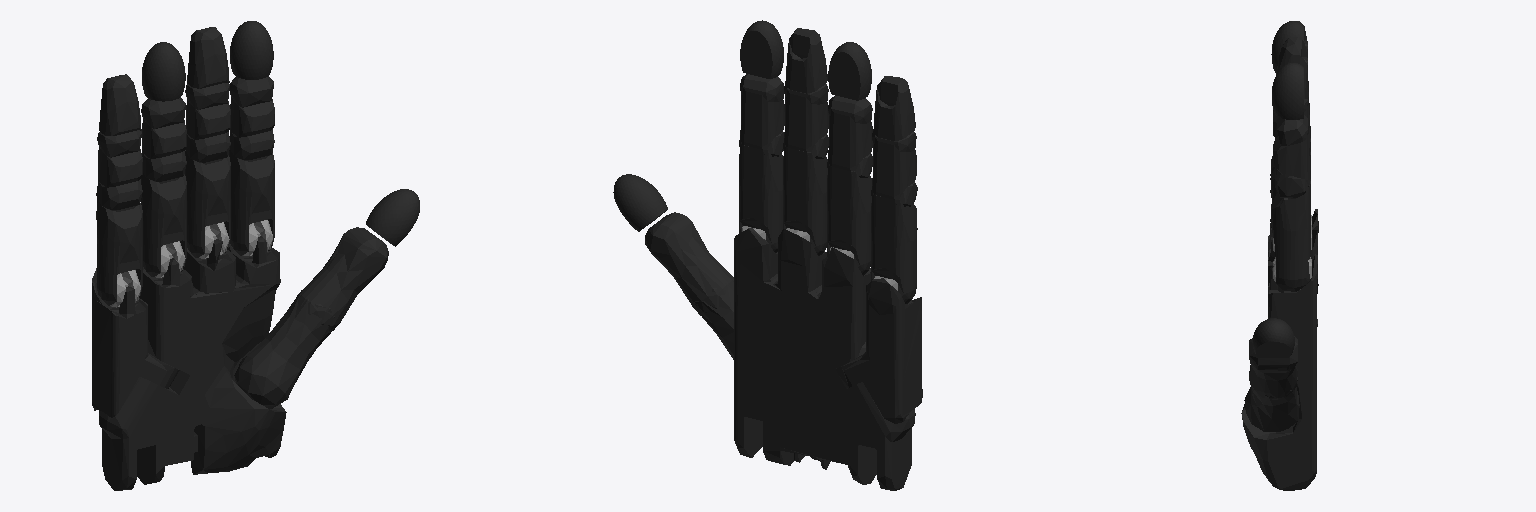
--- What the picture shows (computed from the rendered views, not written in the file) ---
Views: 3 orthographic renders of the robot side by side, from view 1: azimuth 30°, elevation 25°; view 2: azimuth 150°, elevation 25°; view 3: azimuth 270°, elevation 25°.
Robot: shadowhand — 29 links, 28 joints (22 revolute, 6 fixed); root link base_link; default pose: all joints at 0.
Visible links, largest first — view 1: palm, lfmetacarpal, thproximal, thmiddle, lfproximal, rfproximal, mfproximal, ffproximal, rfmiddle, ffmiddle, lfmiddle, mfmiddle (+9 smaller); view 2: palm, lfmetacarpal, thmiddle, lfproximal, rfproximal, mfproximal, ffproximal, rfmiddle, ffmiddle, lfmiddle, mfmiddle, lfdistal (+5 smaller); view 3: palm, ffproximal, ffmiddle, thmiddle, thproximal, ffdistal, thdistal, mfdistal, rfdistal.
Link boxes in pixels (x1,y1,x2,y2): palm: (99,236,286,490); lfmetacarpal: (92,268,179,417); thproximal: (234,290,335,408); thmiddle: (296,227,388,330); lfproximal: (96,198,142,305); rfproximal: (141,173,186,276); mfproximal: (185,150,230,257); ffproximal: (229,150,274,255); rfmiddle: (141,97,186,181); ffmiddle: (229,76,274,160); lfmiddle: (96,130,142,210); mfmiddle: (185,83,230,162); palm: (734,227,915,490); lfmetacarpal: (836,278,922,423); thmiddle: (645,212,733,315); lfproximal: (871,195,917,303); rfproximal: (827,166,871,275); mfproximal: (783,147,827,255); ffproximal: (739,145,782,252); rfmiddle: (827,95,872,177); ffmiddle: (739,74,784,156); lfmiddle: (871,132,917,206); mfmiddle: (783,81,828,158); lfdistal: (873,76,915,140); palm: (1241,212,1318,490); ffproximal: (1270,181,1310,291); ffmiddle: (1273,115,1310,198); thmiddle: (1249,336,1297,399); thproximal: (1244,365,1299,431); ffdistal: (1272,63,1303,119); thdistal: (1253,318,1294,357); mfdistal: (1276,37,1307,98); rfdistal: (1271,21,1303,72).
Bounding box of the posed robot: 0.1543 × 0.0345 × 0.2098 m (x, y, z).
23 mesh visuals loaded from 10 distinct referenced files (10 binary STL).

robot.urdf — shadowhand:
<robot name="shadowhand">
  <material name="Blue">
    <color rgba="0.0 0.0 0.8 1.0" />
  </material>
  <material name="Green">
    <color rgba="0.0 0.8 0.0 1.0" />
  </material>
  <material name="Grey">
    <color rgba="0.2 0.2 0.2 1.0" />
  </material>
  <material name="LightGrey">
    <color rgba="0.6 0.6 0.6 1.0" />
  </material>
  <material name="Red">
    <color rgba="0.8 0.0 0.0 1.0" />
  </material>
  <material name="White">
    <color rgba="1.0 1.0 1.0 1.0" />
  </material>
  <link name="base_link"/>
  <joint name="base_link_palm" type="fixed">
    <origin rpy="0.00000000 0.00000000 0.00000000"/>
    <parent link="base_link"/>
    <child link="palm"/>
  </joint>
  <link name="palm">
    <inertial>
      <origin rpy="0 0 0" xyz="0 0 0.035" />
      <mass value="0.3" />
      <inertia ixx="0.5" ixy="0.0" ixz="0.0" iyy="0.5" iyz="0.0" izz="0.3" />
    </inertial>
    <visual>
      <origin rpy="0 0 0" xyz="0 0 0" />
      <geometry name="palm_visual">
        <mesh filename="meshes/palm.stl" scale="0.001 0.001 0.001" />
      </geometry>
      <material name="Grey" />
    </visual>
    <collision>
      <origin rpy="0 0 0" xyz="0 0 0" />
      <geometry name="palm_visual">
        <mesh filename="meshes/palm.stl" scale="0.001 0.001 0.001" />
      </geometry>
    </collision>
  </link>
  <link name="ffknuckle">
    <inertial>
      <origin rpy="0 0 0" xyz="0 0 0" />

      <mass value="0.008" />
      <inertia ixx="0.0" ixy="0.0" ixz="0.0" iyy="0.1" iyz="0.0" izz="0.0" />
    </inertial>
    <visual>
      <origin rpy="0 0 0" xyz="0 0 0.0005" />
      <geometry name="knuckle_visual">
        <mesh filename="meshes/knuckle.stl" scale="0.001 0.001 0.001" />
      </geometry>
      <material name="LightGrey" />
    </visual>
    <collision>
      <origin rpy="0 0 0" xyz="0 0 0.0005" />
      <geometry name="knuckle_visual">
        <mesh filename="meshes/knuckle.stl" scale="0.001 0.001 0.001" />
      </geometry>
    </collision>
  </link>
  <joint name="FFJ4" type="revolute">
    <parent link="palm" />
    <child link="ffknuckle" />

    <origin rpy="0 0 0" xyz="0.033 0 0.095" />
    <axis xyz="0 -1 0" />
    <limit effort="100" lower="-0.43633231299858238" upper="0.43633231299858238" velocity="1.0" />
    <dynamics damping="50.5" />
  </joint>
  <link name="ffproximal">
    <inertial>
      <mass value="0.014" />
      <origin xyz="0 0 0.0225" />
      <inertia ixx="0.1" ixy="0.0" ixz="0.0" iyy="0.1" iyz="0.0" izz="0.0" />
    </inertial>
    <visual>
      <origin rpy="0 0 0" xyz="0 0 0" />
      <geometry name="proximal_visual">
        <mesh filename="meshes/F3.stl" scale="0.001 0.001 0.001" />
      </geometry>
      <material name="Grey" />
    </visual>
    <collision>
      <origin rpy="0 0 0" xyz="0 0 0" />
      <geometry name="proximal_visual">
        <mesh filename="meshes/F3.stl" scale="0.001 0.001 0.001" />
      </geometry>
    </collision>
  </link>
  <joint name="FFJ3" type="revolute">
    <parent link="ffknuckle" />
    <child link="ffproximal" />
    <origin rpy="0 0 0" xyz="0 0 0" />
    <axis xyz="1 0 0" />
    <limit effort="100" lower="0" upper="1.57079632679" velocity="1.0" />
    <dynamics damping="50.5" />
  </joint>
  <link name="ffmiddle">
    <inertial>
      <origin rpy="0 0 0" xyz="0 0 0.0125" />
      <mass value="0.012" />
      <inertia ixx="0.1" ixy="0.0" ixz="0.0" iyy="0.1" iyz="0.0" izz="0.0" />
    </inertial>
    <visual>
      <origin rpy="0 0 0" xyz="0 0 0" />
      <geometry name="middle_visual">
        <mesh filename="meshes/F2.stl" scale="0.001 0.001 0.001" />
      </geometry>
      <material name="Grey" />
    </visual>
    <collision>
      <origin rpy="0 0 0" xyz="0 0 0" />
      <geometry name="middle_visual">
        <mesh filename="meshes/F2.stl" scale="0.001 0.001 0.001" />
      </geometry>
    </collision>
  </link>
  <joint name="FFJ2" type="revolute">
    <parent link="ffproximal" />
    <child link="ffmiddle" />
    <origin rpy="0 0 0" xyz="0 0 0.045" />
    <axis xyz="1 0 0" />
    <limit effort="100" lower="0" upper="1.57079632679" velocity="1.0" />
    <dynamics damping="50.5" />
  </joint>
  <link name="ffdistal">
    <inertial>
      <mass value="0.010" />
      <origin xyz="0 0 0.013" />
      <inertia ixx="0.1" ixy="0.0" ixz="0.0" iyy="0.1" iyz="0.0" izz="0.0" />
    </inertial>
    <visual>
      <origin rpy="0 0 0" xyz="0 0 0" />
      <geometry name="distal_visual">
        <mesh filename="meshes/distal_ellipsoid.stl" scale="0.001 0.001 0.001" />
      </geometry>
      <material name="Grey" />
    </visual>

    <collision>
      <origin rpy="0 0 0" xyz="0 0 0" />
      <geometry name="distal_collision_geom">
        <mesh filename="meshes/distal_ellipsoid.stl" scale="0.001 0.001 0.001" />
      </geometry>
    </collision>
  </link>
  <joint name="FFJ1" type="revolute">
    <parent link="ffmiddle" />
    <child link="ffdistal" />
    <origin rpy="0 0 0" xyz="0 0 0.025" />
    <axis xyz="1 0 0" />
    <limit effort="100" lower="0" upper="1.57079632679" velocity="1.0" />
    <dynamics damping="50.5" />
  </joint>
  <link name="fftip">
    <inertial>
      <mass value="0.001" />
      <inertia ixx="0.0" ixy="0.0" ixz="0.0" iyy="0.0" iyz="0.0" izz="0.0" />
    </inertial>
  </link>
  <joint name="FFtip" type="fixed">
    <parent link="ffdistal" />
    <child link="fftip" />
    <origin rpy="0 0 0" xyz="0 0 0.026" />
  </joint>
  <link name="mfknuckle">
    <inertial>
      <origin rpy="0 0 0" xyz="0 0 0" />

      <mass value="0.008" />
      <inertia ixx="0.0" ixy="0.0" ixz="0.0" iyy="0.1" iyz="0.0" izz="0.0" />
    </inertial>
    <visual>
      <origin rpy="0 0 0" xyz="0 0 0.0005" />
      <geometry name="knuckle_visual">
        <mesh filename="meshes/knuckle.stl" scale="0.001 0.001 0.001" />
      </geometry>
      <material name="LightGrey" />
    </visual>
    <collision>
      <origin rpy="0 0 0" xyz="0 0 0.0005" />
      <geometry name="knuckle_visual">
        <mesh filename="meshes/knuckle.stl" scale="0.001 0.001 0.001" />
      </geometry>
    </collision>
  </link>
  <joint name="MFJ4" type="revolute">
    <parent link="palm" />
    <child link="mfknuckle" />

    <origin rpy="0 0 0" xyz="0.011 0 0.099" />
    <axis xyz="0 -1 0" />
    <limit effort="100" lower="-0.43633231299858238" upper="0.43633231299858238" velocity="1.0" />
    <dynamics damping="50.5" />
  </joint>
  <link name="mfproximal">
    <inertial>
      <mass value="0.014" />
      <origin xyz="0 0 0.0225" />
      <inertia ixx="0.1" ixy="0.0" ixz="0.0" iyy="0.1" iyz="0.0" izz="0.0" />
    </inertial>
    <visual>
      <origin rpy="0 0 0" xyz="0 0 0" />
      <geometry name="proximal_visual">
        <mesh filename="meshes/F3.stl" scale="0.001 0.001 0.001" />
      </geometry>
      <material name="Grey" />
    </visual>
    <collision>
      <origin rpy="0 0 0" xyz="0 0 0" />
      <geometry name="proximal_visual">
        <mesh filename="meshes/F3.stl" scale="0.001 0.001 0.001" />
      </geometry>
    </collision>
  </link>
  <joint name="MFJ3" type="revolute">
    <parent link="mfknuckle" />
    <child link="mfproximal" />
    <origin rpy="0 0 0" xyz="0 0 0" />
    <axis xyz="1 0 0" />
    <limit effort="100" lower="0" upper="1.57079632679" velocity="1.0" />
    <dynamics damping="50.5" />
  </joint>
  <link name="mfmiddle">
    <inertial>
      <origin rpy="0 0 0" xyz="0 0 0.0125" />
      <mass value="0.012" />
      <inertia ixx="0.1" ixy="0.0" ixz="0.0" iyy="0.1" iyz="0.0" izz="0.0" />
    </inertial>
    <visual>
      <origin rpy="0 0 0" xyz="0 0 0" />
      <geometry name="middle_visual">
        <mesh filename="meshes/F2.stl" scale="0.001 0.001 0.001" />
      </geometry>
      <material name="Grey" />
    </visual>
    <collision>
      <origin rpy="0 0 0" xyz="0 0 0" />
      <geometry name="middle_visual">
        <mesh filename="meshes/F2.stl" scale="0.001 0.001 0.001" />
      </geometry>
    </collision>
  </link>
  <joint name="MFJ2" type="revolute">
    <parent link="mfproximal" />
    <child link="mfmiddle" />
    <origin rpy="0 0 0" xyz="0 0 0.045" />
    <axis xyz="1 0 0" />
    <limit effort="100" lower="0" upper="1.57079632679" velocity="1.0" />
    <dynamics damping="50.5" />
  </joint>
  <link name="mfdistal">
    <inertial>
      <mass value="0.010" />
      <origin xyz="0 0 0.013" />
      <inertia ixx="0.1" ixy="0.0" ixz="0.0" iyy="0.1" iyz="0.0" izz="0.0" />
    </inertial>
    <visual>
      <origin rpy="0 0 0" xyz="0 0 0" />
      <geometry name="distal_visual">
        <mesh filename="meshes/F1.stl" scale="0.001 0.001 0.001" />
      </geometry>
      <material name="Grey" />
    </visual>

    <collision>
      <origin rpy="0 0 0" xyz="0 0 0" />
      <geometry name="distal_collision_geom">
        <mesh filename="meshes/F1.stl" scale="0.001 0.001 0.001" />
      </geometry>
    </collision>
  </link>
  <joint name="MFJ1" type="revolute">
    <parent link="mfmiddle" />
    <child link="mfdistal" />
    <origin rpy="0 0 0" xyz="0 0 0.025" />
    <axis xyz="1 0 0" />
    <limit effort="100" lower="0" upper="1.57079632679" velocity="1.0" />
    <dynamics damping="50.5" />
  </joint>
  <link name="mftip">
    <inertial>
      <mass value="0.001" />
      <inertia ixx="0.0" ixy="0.0" ixz="0.0" iyy="0.0" iyz="0.0" izz="0.0" />
    </inertial>
  </link>
  <joint name="MFtip" type="fixed">
    <parent link="mfdistal" />
    <child link="mftip" />
    <origin rpy="0 0 0" xyz="0 0 0.026" />
  </joint>
  <link name="rfknuckle">
    <inertial>
      <origin rpy="0 0 0" xyz="0 0 0" />

      <mass value="0.008" />
      <inertia ixx="0.0" ixy="0.0" ixz="0.0" iyy="0.1" iyz="0.0" izz="0.0" />
    </inertial>
    <visual>
      <origin rpy="0 0 0" xyz="0 0 0.0005" />
      <geometry name="knuckle_visual">
        <mesh filename="meshes/knuckle.stl" scale="0.001 0.001 0.001" />
      </geometry>
      <material name="LightGrey" />
    </visual>
    <collision>
      <origin rpy="0 0 0" xyz="0 0 0.0005" />
      <geometry name="knuckle_visual">
        <mesh filename="meshes/knuckle.stl" scale="0.001 0.001 0.001" />
      </geometry>
    </collision>
  </link>
  <joint name="RFJ4" type="revolute">
    <parent link="palm" />
    <child link="rfknuckle" />

    <origin rpy="0 0 0" xyz="-0.011 0 0.095" />
    <axis xyz="0 1 0" />
    <limit effort="100" lower="-0.43633231299858238" upper="0.43633231299858238" velocity="1.0" />
    <dynamics damping="50.5" />
  </joint>
  <link name="rfproximal">
    <inertial>
      <mass value="0.014" />
      <origin xyz="0 0 0.0225" />
      <inertia ixx="0.1" ixy="0.0" ixz="0.0" iyy="0.1" iyz="0.0" izz="0.0" />
    </inertial>
    <visual>
      <origin rpy="0 0 0" xyz="0 0 0" />
      <geometry name="proximal_visual">
        <mesh filename="meshes/F3.stl" scale="0.001 0.001 0.001" />
      </geometry>
      <material name="Grey" />
    </visual>
    <collision>
      <origin rpy="0 0 0" xyz="0 0 0" />
      <geometry name="proximal_visual">
        <mesh filename="meshes/F3.stl" scale="0.001 0.001 0.001" />
      </geometry>
    </collision>
  </link>
  <joint name="RFJ3" type="revolute">
    <parent link="rfknuckle" />
    <child link="rfproximal" />
    <origin rpy="0 0 0" xyz="0 0 0" />
    <axis xyz="1 0 0" />
    <limit effort="100" lower="0" upper="1.57079632679" velocity="1.0" />
    <dynamics damping="50.5" />
  </joint>
  <link name="rfmiddle">
    <inertial>
      <origin rpy="0 0 0" xyz="0 0 0.0125" />
      <mass value="0.012" />
      <inertia ixx="0.1" ixy="0.0" ixz="0.0" iyy="0.1" iyz="0.0" izz="0.0" />
    </inertial>
    <visual>
      <origin rpy="0 0 0" xyz="0 0 0" />
      <geometry name="middle_visual">
        <mesh filename="meshes/F2.stl" scale="0.001 0.001 0.001" />
      </geometry>
      <material name="Grey" />
    </visual>
    <collision>
      <origin rpy="0 0 0" xyz="0 0 0" />
      <geometry name="middle_visual">
        <mesh filename="meshes/F2.stl" scale="0.001 0.001 0.001" />
      </geometry>
    </collision>
  </link>
  <joint name="RFJ2" type="revolute">
    <parent link="rfproximal" />
    <child link="rfmiddle" />
    <origin rpy="0 0 0" xyz="0 0 0.045" />
    <axis xyz="1 0 0" />
    <limit effort="100" lower="0" upper="1.57079632679" velocity="1.0" />
    <dynamics damping="50.5" />
  </joint>
  <link name="rfdistal">
    <inertial>
      <mass value="0.010" />
      <origin xyz="0 0 0.013" />
      <inertia ixx="0.1" ixy="0.0" ixz="0.0" iyy="0.1" iyz="0.0" izz="0.0" />
    </inertial>
    <visual>
      <origin rpy="0 0 0" xyz="0 0 0" />
      <geometry name="distal_visual">
        <mesh filename="meshes/distal_ellipsoid.stl" scale="0.001 0.001 0.001" />
      </geometry>
      <material name="Grey" />
    </visual>

    <collision>
      <origin rpy="0 0 0" xyz="0 0 0" />
      <geometry name="distal_collision_geom">
        <mesh filename="meshes/distal_ellipsoid.stl" scale="0.001 0.001 0.001" />
      </geometry>
    </collision>
  </link>
  <joint name="RFJ1" type="revolute">
    <parent link="rfmiddle" />
    <child link="rfdistal" />
    <origin rpy="0 0 0" xyz="0 0 0.025" />
    <axis xyz="1 0 0" />
    <limit effort="100" lower="0" upper="1.57079632679" velocity="1.0" />
    <dynamics damping="50.5" />
  </joint>
  <link name="rftip">
    <inertial>
      <mass value="0.001" />
      <inertia ixx="0.0" ixy="0.0" ixz="0.0" iyy="0.0" iyz="0.0" izz="0.0" />
    </inertial>
  </link>
  <joint name="RFtip" type="fixed">
    <parent link="rfdistal" />
    <child link="rftip" />
    <origin rpy="0 0 0" xyz="0 0 0.026" />
  </joint>
  <link name="lfmetacarpal">
    <inertial>
      <origin rpy="0 0 0" xyz="0 0 0.04" />
      <mass value="0.075" />
      <inertia ixx="0.1" ixy="0.0" ixz="0.0" iyy="0.1" iyz="0.0" izz="0.1" />
    </inertial>
    <visual>
      <origin rpy="0 0 0" xyz="0 0 0" />
      <geometry name="lfmetacarpal_visual">
        <mesh filename="meshes/lfmetacarpal.stl" scale="0.001 0.001 0.001" />
      </geometry>
      <material name="Grey" />
    </visual>
    <collision>
      <origin rpy="0 0 0" xyz="0 0 0" />
      <geometry name="lfmetacarpal_visual">
        <mesh filename="meshes/lfmetacarpal.stl" scale="0.001 0.001 0.001" />
      </geometry>
    </collision>
  </link>
  <joint name="LFJ5" type="revolute">
    <parent link="palm" />
    <child link="lfmetacarpal" />
    <origin rpy="0 0 0" xyz="-0.033 0 0.02071" />
    <axis xyz="0.573576436 0 0.819152044" />
    <limit effort="100" lower="0" upper="0.69813170079773179" velocity="1.0" />
    <dynamics damping="50.5" />
  </joint>
  <link name="lfknuckle">
    <inertial>
      <origin rpy="0 0 0" xyz="0 0 0.06579" />
      <mass value="0.008" />
      <inertia ixx="0.1" ixy="0.0" ixz="0.0" iyy="0.1" iyz="0.0" izz="0.1" />
    </inertial>
    <visual>
      <origin rpy="0 0 0" xyz="0 0 0" />
      <geometry name="knuckle_visual">
        <mesh filename="meshes/knuckle.stl" scale="0.001 0.001 0.001" />
      </geometry>
      <material name="LightGrey" />
    </visual>
    <collision>
      <origin rpy="0 0 0" xyz="0 0 0" />
      <geometry name="knuckle_visual">
        <mesh filename="meshes/knuckle.stl" scale="0.001 0.001 0.001" />
      </geometry>
    </collision>
  </link>
  <joint name="LFJ4" type="revolute">
    <parent link="lfmetacarpal" />
    <child link="lfknuckle" />
    <origin rpy="0 0 0" xyz="0 0 0.06579" />
    <axis xyz="0 1 0" />
    <limit effort="100" lower="-0.43633231299858238" upper="0.43633231299858238" velocity="1.0" />
    <dynamics damping="50.5" />
  </joint>
  <link name="lfproximal">
    <inertial>
      <mass value="0.014" />
      <origin xyz="0 0 0.0225" />
      <inertia ixx="0.1" ixy="0.0" ixz="0.0" iyy="0.1" iyz="0.0" izz="0.0" />
    </inertial>
    <visual>
      <origin rpy="0 0 0" xyz="0 0 0" />
      <geometry name="proximal_visual">
        <mesh filename="meshes/F3.stl" scale="0.001 0.001 0.001" />
      </geometry>
      <material name="Grey" />
    </visual>
    <collision>
      <origin rpy="0 0 0" xyz="0 0 0" />
      <geometry name="proximal_visual">
        <mesh filename="meshes/F3.stl" scale="0.001 0.001 0.001" />
      </geometry>
    </collision>
  </link>
  <joint name="LFJ3" type="revolute">
    <parent link="lfknuckle" />
    <child link="lfproximal" />
    <origin rpy="0 0 0" xyz="0 0 0" />
    <axis xyz="1 0 0" />
    <limit effort="100" lower="0" upper="1.57079632679" velocity="1.0" />
    <dynamics damping="50.5" />
  </joint>
  <link name="lfmiddle">
    <inertial>
      <origin rpy="0 0 0" xyz="0 0 0.0125" />
      <mass value="0.012" />
      <inertia ixx="0.1" ixy="0.0" ixz="0.0" iyy="0.1" iyz="0.0" izz="0.0" />
    </inertial>
    <visual>
      <origin rpy="0 0 0" xyz="0 0 0" />
      <geometry name="middle_visual">
        <mesh filename="meshes/F2.stl" scale="0.001 0.001 0.001" />
      </geometry>
      <material name="Grey" />
    </visual>
    <collision>
      <origin rpy="0 0 0" xyz="0 0 0" />
      <geometry name="middle_visual">
        <mesh filename="meshes/F2.stl" scale="0.001 0.001 0.001" />
      </geometry>
    </collision>
  </link>
  <joint name="LFJ2" type="revolute">
    <parent link="lfproximal" />
    <child link="lfmiddle" />
    <origin rpy="0 0 0" xyz="0 0 0.045" />
    <axis xyz="1 0 0" />
    <limit effort="100" lower="0" upper="1.57079632679" velocity="1.0" />
    <dynamics damping="50.5" />
  </joint>
  <link name="lfdistal">
    <inertial>
      <mass value="0.010" />
      <origin xyz="0 0 0.013" />
      <inertia ixx="0.1" ixy="0.0" ixz="0.0" iyy="0.1" iyz="0.0" izz="0.0" />
    </inertial>
    <visual>
      <origin rpy="0 0 0" xyz="0 0 0" />
      <geometry name="distal_visual">
        <mesh filename="meshes/F1.stl" scale="0.001 0.001 0.001" />
      </geometry>
      <material name="Grey" />
    </visual>

    <collision>
      <origin rpy="0 0 0" xyz="0 0 0" />
      <geometry name="distal_collision_geom">
        <mesh filename="meshes/F1.stl" scale="0.001 0.001 0.001" />
      </geometry>
    </collision>
  </link>
  <joint name="LFJ1" type="revolute">
    <parent link="lfmiddle" />
    <child link="lfdistal" />
    <origin rpy="0 0 0" xyz="0 0 0.025" />
    <axis xyz="1 0 0" />
    <limit effort="100" lower="0" upper="1.57079632679" velocity="1.0" />
    <dynamics damping="50.5" />
  </joint>
  <link name="lftip">
    <inertial>
      <mass value="0.001" />
      <inertia ixx="0.0" ixy="0.0" ixz="0.0" iyy="0.0" iyz="0.0" izz="0.0" />
    </inertial>
  </link>
  <joint name="LFtip" type="fixed">
    <parent link="lfdistal" />
    <child link="lftip" />
    <origin rpy="0 0 0" xyz="0 0 0.026" />
  </joint>
  <link name="thbase">
    <inertial>
      <mass value="0.010" />
      <origin rpy="0 0 0" xyz="0 0 0" />
      <inertia ixx="0.0" ixy="0.0" ixz="0.0" iyy="0.0" iyz="0.0" izz="0.1" />
    </inertial>
    <visual>
      <origin rpy="0 0 0" xyz="0 0 0" />
      <geometry name="thbase_visual">
        <mesh filename="meshes/box.stl" scale="0.001 0.001 0.001" />
      </geometry>
      <material name="shadow_thbase_material">
        <color rgba="0.5 0.5 0.5 1.0" />
      </material>
    </visual>
    <collision>
      <origin rpy="0 0 0 " xyz="0 0 0" />
      <geometry name="thbase_collision_geom">
        <mesh filename="meshes/box.stl" scale="0.001 0.001 0.001" />
      </geometry>
    </collision>
  </link>
  <joint name="THJ5" type="revolute">
    <parent link="palm" />
    <child link="thbase" />
    <origin rpy="0 0.785398163397 0" xyz="0.034 -0.0085 0.029" />
    <axis xyz="0 0 -1.0" />
    <limit effort="100" lower="-1.047" upper="1.047" velocity="1.0" />
    <dynamics damping="50.5" />
  </joint>
  <link name="thproximal">
    <inertial>
      <mass value="0.016" />
      <origin rpy="0 0 0" xyz="0 0 0.019" />
      <inertia ixx="0.1" ixy="0.0" ixz="0.0" iyy="0.1" iyz="0.0" izz="0.1" />
    </inertial>
    <visual>
      <origin rpy="0 0 0" xyz="0 0 0" />
      <geometry name="thproximal_visual">
        <mesh filename="meshes/TH3_z.stl" scale="0.001 0.001 0.001" />
      </geometry>
      <material name="shadow_thproximal_material">
        <color rgba="0.2 0.2 0.2 1.0" />
      </material>
    </visual>
    <collision>
      <origin rpy="0 0 0" xyz="0 0 0" />
      <geometry name="thproximal_visual">
        <mesh filename="meshes/TH3_z.stl" scale="0.001 0.001 0.001" />
      </geometry>
    </collision>
  </link>
  <joint name="THJ4" type="revolute">
    <parent link="thbase" />
    <child link="thproximal" />
    <origin rpy="0 0 0" xyz="0 0 0" />
    <axis xyz="1.0 0 0" />
    <limit effort="100" lower="0" upper="1.309" velocity="1.0" />
    <dynamics damping="50.5" />
  </joint>
  <link name="thhub">
    <inertial>
      <mass value="0.002" />
      <origin rpy="0 0 0" xyz="0 0 0" />
      <inertia ixx="0.1" ixy="0.0" ixz="0.0" iyy="0.1" iyz="0.0" izz="0.1" />
    </inertial>
    <visual>
      <origin rpy="0 0 0" xyz="0 0 0" />
      <geometry name="thhub_visual">
        <mesh filename="meshes/box.stl" scale="0.001 0.001 0.001" />
      </geometry>
      <material name="shadow_thhub_material">
        <color rgba="0.7 0.7 0.7 1.0" />
      </material>
    </visual>
    <collision>
      <origin rpy="0 0 0" xyz="0 0 0" />
      <geometry name="thproximal_visual">
        <mesh filename="meshes/TH3_z.stl" scale="0.001 0.001 0.001" />
      </geometry>
    </collision>
  </link>
  <joint name="THJ3" type="revolute">
    <parent link="thproximal" />
    <child link="thhub" />
    <origin rpy="0 0 0" xyz="0 0 0.038" />
    <axis xyz="1 0 0" />
    <limit effort="100" lower="-0.2618" upper="0.2618" velocity="1.0" />
    <dynamics damping="50.5" />
  </joint>
  <link name="thmiddle">
    <inertial>
      <mass value="0.016" />
      <origin rpy="0 0 0" xyz="0 0 0.016" />
      <inertia ixx="0.1" ixy="0.0" ixz="0.0" iyy="0.1" iyz="0.0" izz="0.1" />
    </inertial>
    <visual>
      <origin rpy="0 0 0" xyz="0 0 0" />
      <geometry name="thmiddle_visual">
        <mesh filename="meshes/TH2_z.stl" scale="0.001 0.001 0.001" />
      </geometry>
      <material name="shadow_thmiddle_material">
        <color rgba="0.2 0.2 0.2 1.0" />
      </material>
    </visual>
    <collision>
      <origin rpy="0 0 0" xyz="0 0 0" />
      <geometry name="thproximal_visual">
        <mesh filename="meshes/TH3_z.stl" scale="0.001 0.001 0.001" />
      </geometry>
    </collision>
  </link>
  <joint name="THJ2" type="revolute">
    <parent link="thhub" />
    <child link="thmiddle" />
    <origin rpy="0 0 0" xyz="0 0 0" />
    <axis xyz="0 -1 0" />
    <limit effort="100" lower="-0.5237" upper="0.5237" velocity="1.0" />
    <dynamics damping="50.5" />
  </joint>
  <link name="thdistal">
    <inertial>
      <mass value="0.016" />
      <origin rpy="0 0 0" xyz="0 0 0.01375" />
      <inertia ixx="0.1" ixy="0.0" ixz="0.0" iyy="0.1" iyz="0.0" izz="0.1" />
    </inertial>
    <visual>
      <origin rpy="0 0 0" xyz="0 0.002 0.0025" />
      <geometry name="thdistal_visual">
        <mesh filename="meshes/distal_ellipsoid.stl" scale="0.001 0.001 0.001" />
      </geometry>
      <material name="shadow_thmiddle_material">
        <color rgba="0.2 0.2 0.2 1.0" />
      </material>
    </visual>
    <collision>
      <origin rpy="0 0 0 " xyz="0 0.002 0.0025" />
      <geometry name="thmiddle_collision_geom">
        <mesh filename="meshes/distal_ellipsoid.stl" scale="0.001 0.001 0.001" />
      </geometry>
    </collision>
  </link>
  <joint name="THJ1" type="revolute">
    <parent link="thmiddle" />
    <child link="thdistal" />
    <origin rpy="0 0 -1.570796327" xyz="0 0 0.032" />
    <axis xyz="1 0 0" />
    <limit effort="100" lower="0" upper="1.571" velocity="1.0" />
    <dynamics damping="50.5" />
  </joint>
  <link name="thtip">
    <inertial>
      <mass value="0.001" />
      <inertia ixx="0.0" ixy="0.0" ixz="0.0" iyy="0.0" iyz="0.0" izz="0.0" />
    </inertial>
  </link>
  <joint name="thtip" type="fixed">
    <parent link="thdistal" />
    <child link="thtip" />
    <origin rpy="0 0 0" xyz="0 0 0.0275" />
  </joint>
  </robot>
